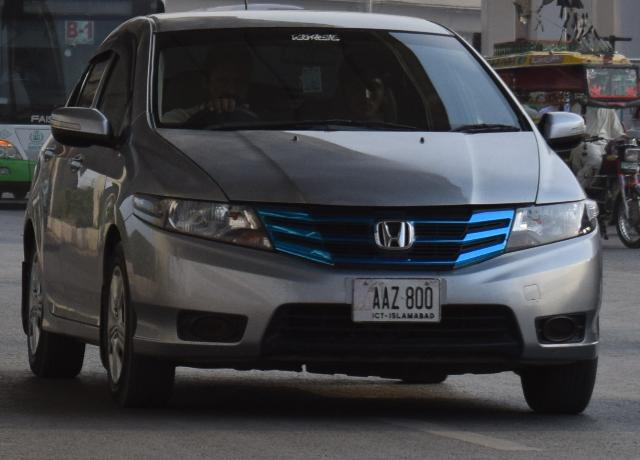plate: (353, 276, 443, 322)
